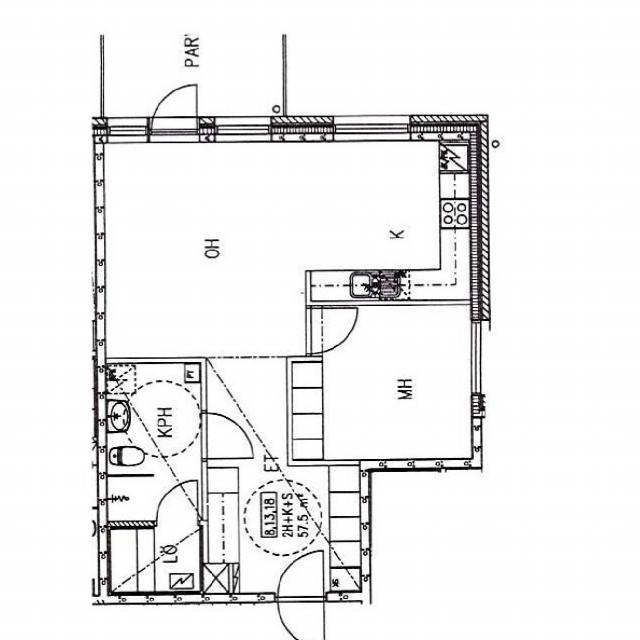door: (149, 68, 198, 142), (277, 545, 323, 602), (200, 412, 252, 458), (277, 592, 323, 640), (306, 310, 354, 353), (156, 481, 196, 527)
